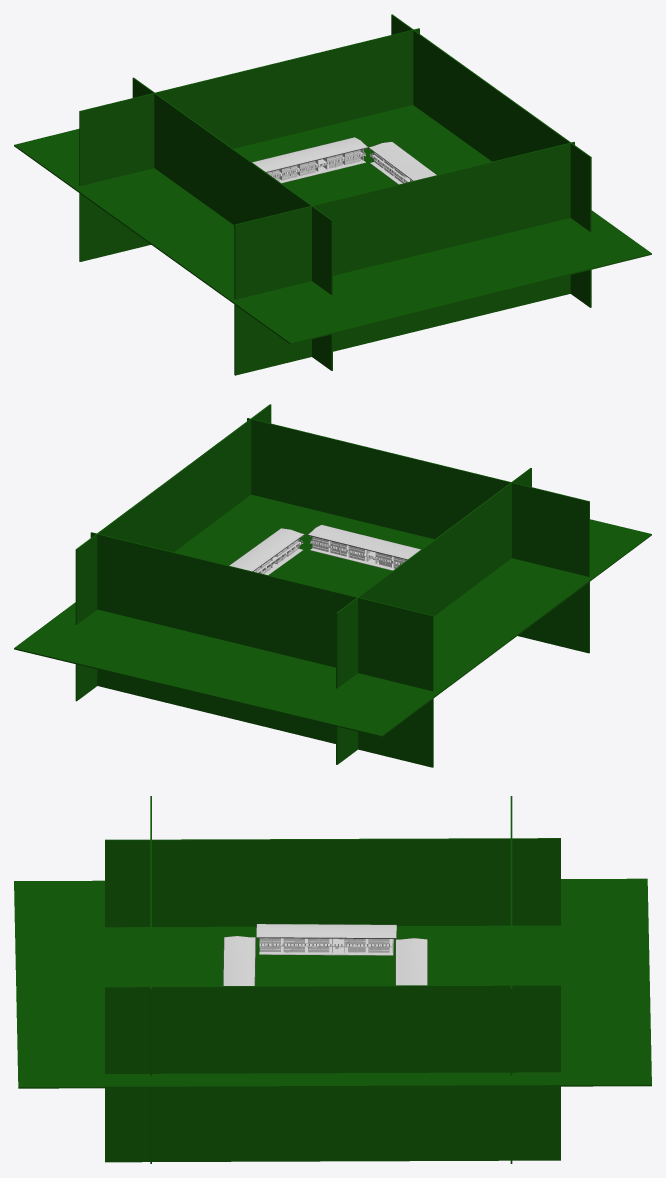
File: tpkmapfile.fbx
3 renders of one model, top to bottom at view 1: azimuth 30°, elevation 25°; view 2: azimuth 150°, elevation 25°; view 3: azimuth 270°, elevation 25°, orthographic. The views are drawn at different scales.
Visible parts, largest first — view 1: Küp, Classroom.Roof, Classroom.Roof.001, Classroom.Slab; view 2: Küp, Classroom.Roof.003, Classroom.Roof.001, Classroom.Slab.003; view 3: Küp, Classroom.Roof.002, Classroom.Roof.003, Classroom.Roof, Classroom.Slab.002, Windows.002, Classroom.Walls.002.
Boxes of the visible parts, bbox=[...] form: Küp: bbox=[14, 14, 651, 375]; Classroom.Roof: bbox=[252, 137, 368, 172]; Classroom.Roof.001: bbox=[368, 141, 436, 180]; Classroom.Slab: bbox=[272, 152, 365, 183]; Küp: bbox=[14, 404, 651, 767]; Classroom.Roof.003: bbox=[307, 524, 420, 559]; Classroom.Roof.001: bbox=[229, 528, 304, 571]; Classroom.Slab.003: bbox=[310, 541, 401, 570]; Küp: bbox=[14, 796, 651, 1163]; Classroom.Roof.002: bbox=[256, 924, 396, 938]; Classroom.Roof.003: bbox=[223, 936, 255, 985]; Classroom.Roof: bbox=[395, 938, 427, 985]; Classroom.Slab.002: bbox=[259, 938, 393, 955]; Windows.002: bbox=[260, 938, 389, 949]; Classroom.Walls.002: bbox=[260, 941, 389, 952].
Size of the model in its own units: 17113 by 6702 by 22141.
